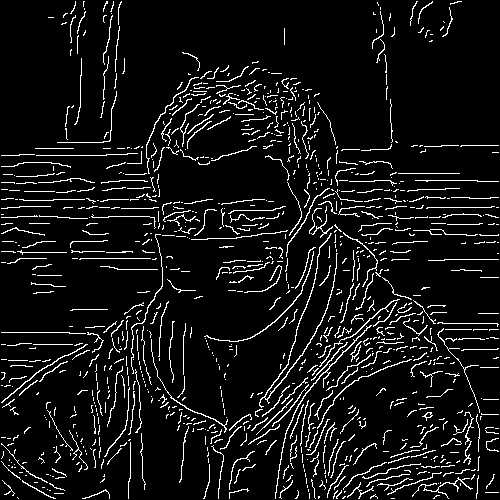mask: (153, 230, 301, 341)
